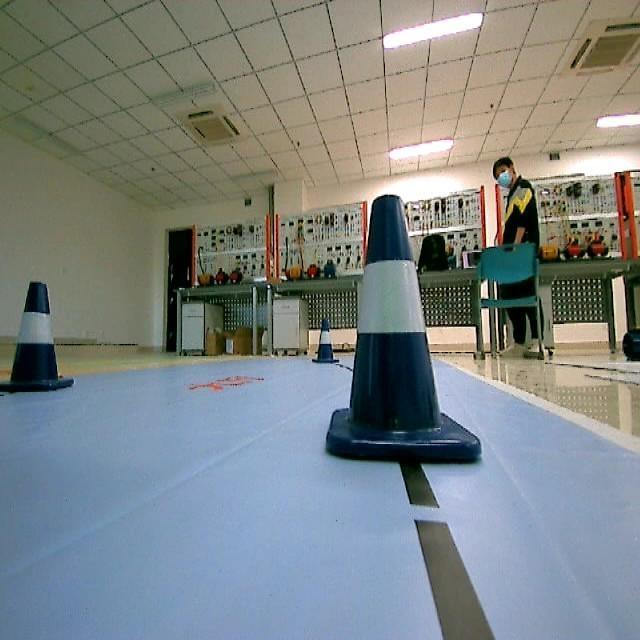obstacle: (316, 191, 499, 470), (0, 280, 91, 395), (310, 320, 342, 370)
